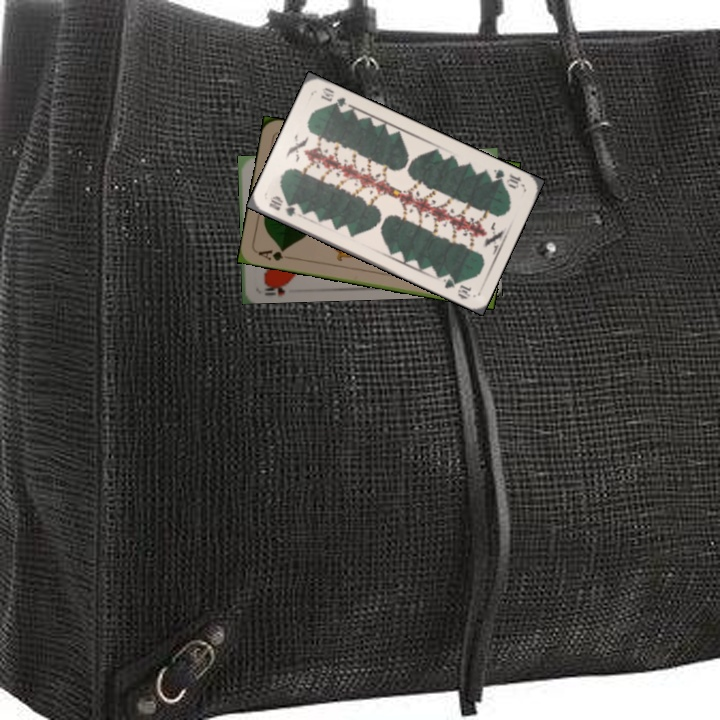G10: (489, 165, 525, 191), (264, 192, 298, 219)
GA: (254, 245, 294, 263)
HO: (260, 278, 292, 298)
